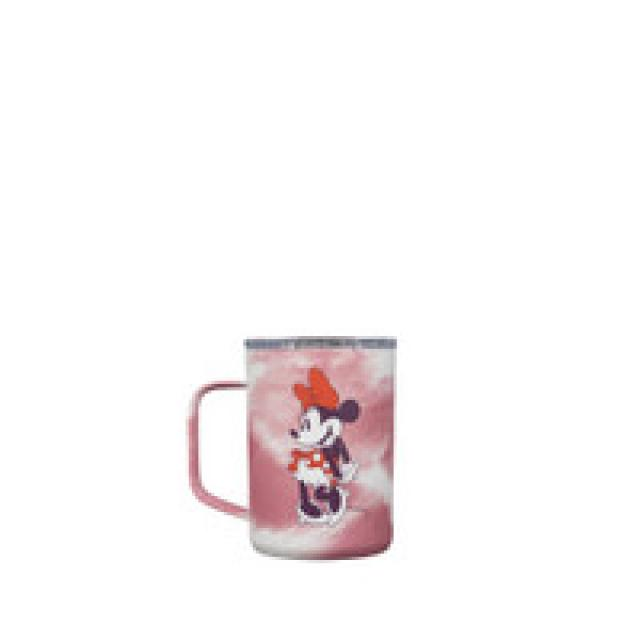bottle: (184, 336, 398, 561)
